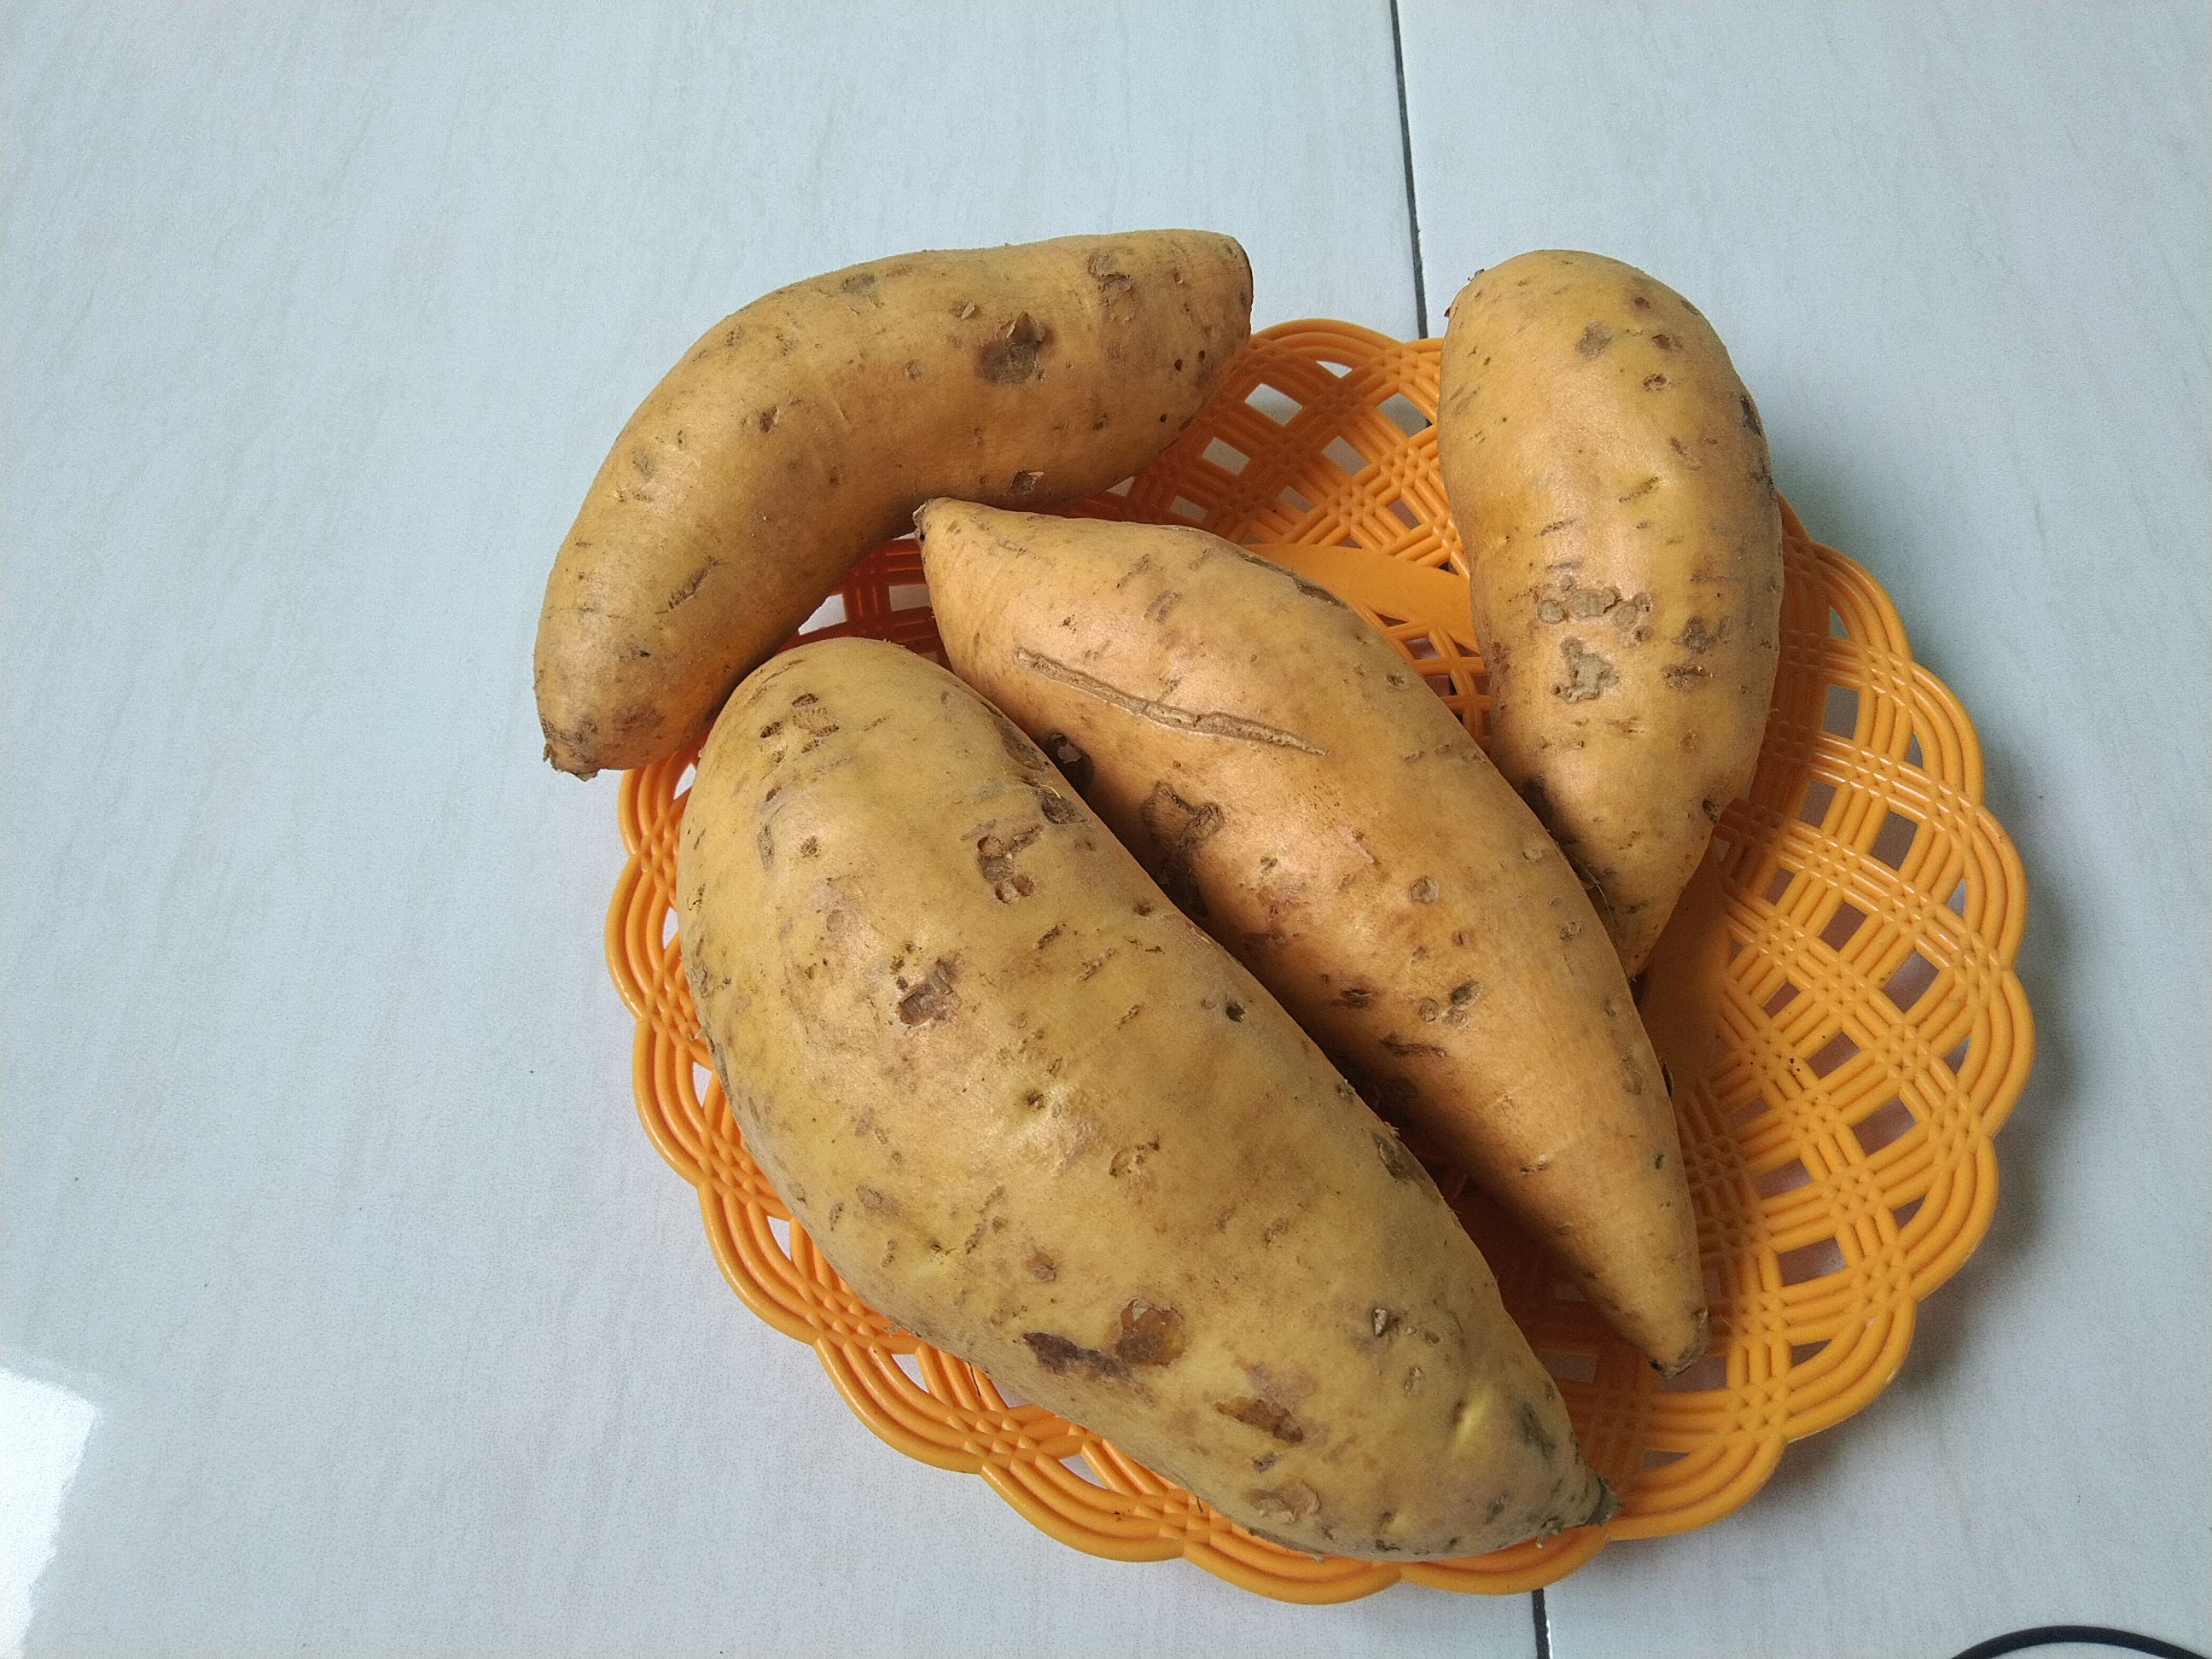ubi cilembu: (671, 624, 1651, 1612), (913, 491, 1764, 1399), (502, 228, 1289, 789), (1421, 239, 1780, 995)
